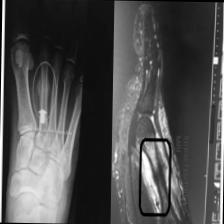stress-fracture: (115, 0, 195, 224), (0, 25, 81, 223)
